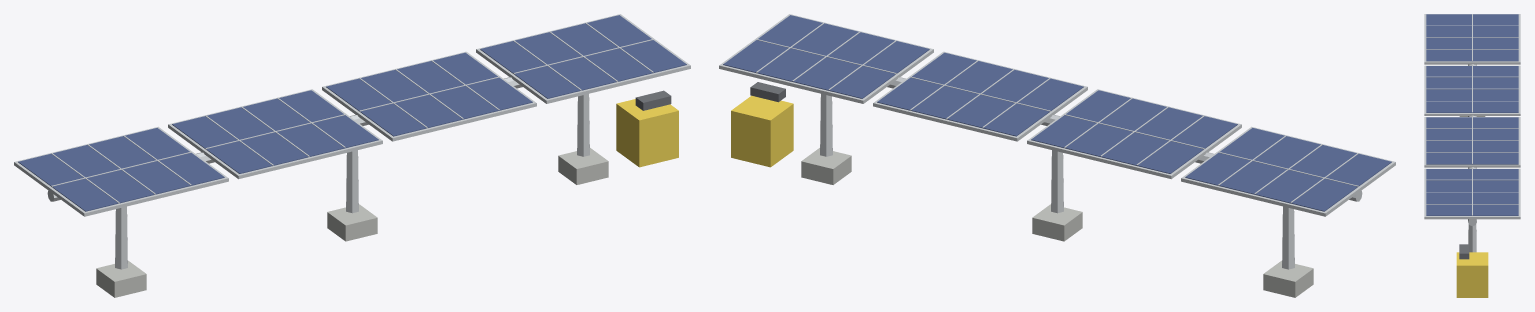
The model's file is wind-and-solar-energy-farm-solar-tracker-row-782a5857__34058.glb.
The picture shows the model from 3 angles, left to right: view 1: azimuth 30°, elevation 25°; view 2: azimuth 150°, elevation 25°; view 3: azimuth 270°, elevation 25°; orthographic projection. The views are drawn at different scales.
Visible parts, largest first — view 1: tracker/cell, solar-tracker-row, tracker/steel; view 2: tracker/cell, solar-tracker-row, tracker/steel; view 3: tracker/cell, tracker/steel, solar-tracker-row.
Part boxes in pixels (box(x1,y1,x2,y2)): tracker/cell: box(18, 15, 686, 211); solar-tracker-row: box(96, 90, 678, 297); tracker/steel: box(14, 14, 690, 216); tracker/cell: box(723, 15, 1391, 211); solar-tracker-row: box(731, 82, 1313, 297); tracker/steel: box(719, 14, 1395, 216); tracker/cell: box(1426, 14, 1518, 215); tracker/steel: box(1424, 14, 1520, 225); solar-tracker-row: box(1456, 116, 1488, 297).
Size of the model in its own units: 9.64 by 1.76 by 1.9.
